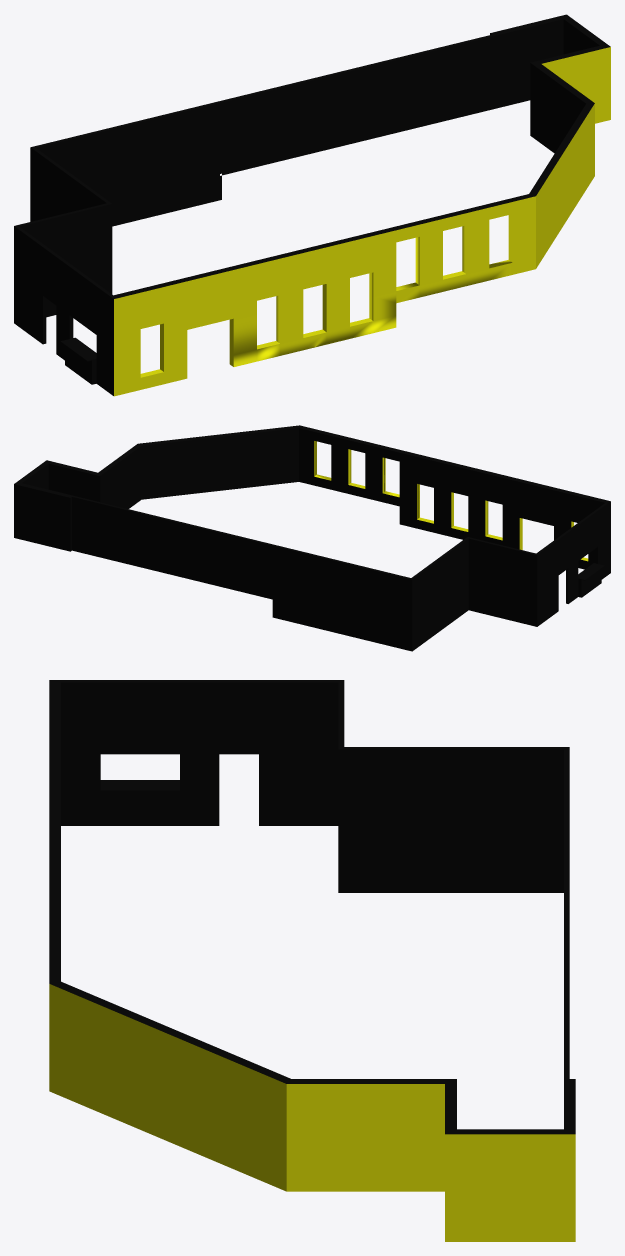
File: gA_05-Wand1-FBX.fbx
3 renders of one model, top to bottom at view 1: azimuth 30°, elevation 25°; view 2: azimuth 150°, elevation 25°; view 3: azimuth 270°, elevation 25°, orthographic. The views are drawn at different scales.
Visible parts, largest first — view 1: Wall1; view 2: Wall1; view 3: Wall1.
Part boxes in pixels (box(x1,y1,x2,y2)): Wall1: box(14, 14, 610, 396); Wall1: box(14, 425, 610, 651); Wall1: box(49, 680, 575, 1241).
Size of the model in its own units: 27.55 by 4 by 13.3.
